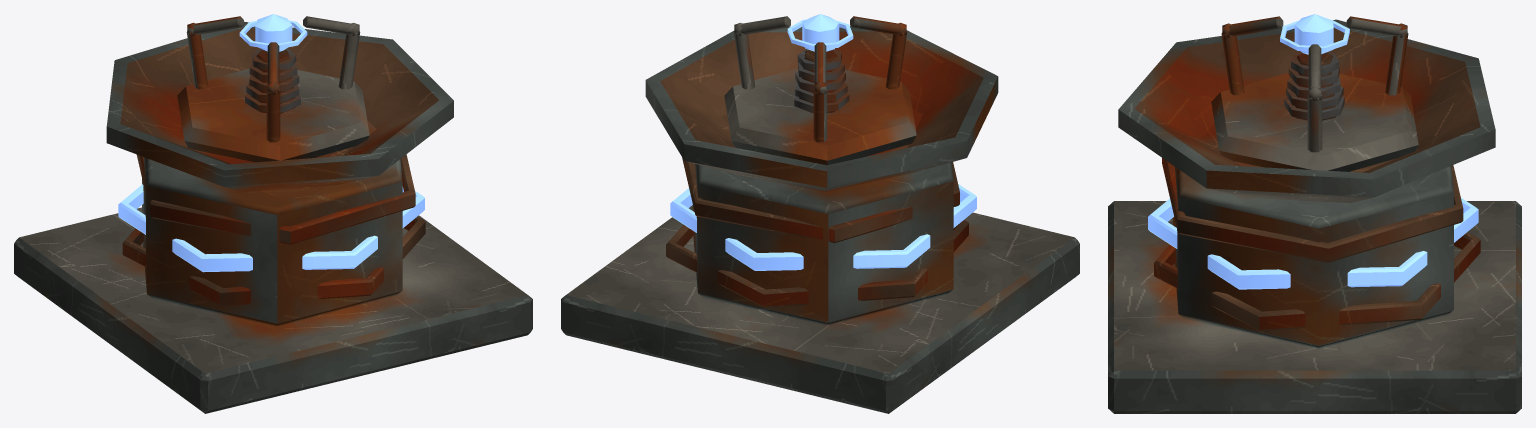
Rendered from R4X_EMPTrapDeployer_LOD1.glb.
3 renders of one model, left to right at view 1: azimuth 30°, elevation 25°; view 2: azimuth 150°, elevation 25°; view 3: azimuth 270°, elevation 25°, orthographic. The views are drawn at different scales.
Parts seen in each view (by area): view 1: R4X_EMPTrapDeployer_LOD1; view 2: R4X_EMPTrapDeployer_LOD1; view 3: R4X_EMPTrapDeployer_LOD1.
Part boxes in pixels (box(x1,y1,x2,y2)): R4X_EMPTrapDeployer_LOD1: box(14, 14, 532, 413); R4X_EMPTrapDeployer_LOD1: box(561, 14, 1079, 413); R4X_EMPTrapDeployer_LOD1: box(1108, 14, 1521, 413).
Bounding box in the file's own units: 0.52 × 0.437 × 0.52.
Materials: 5 (4 with a texture image).
